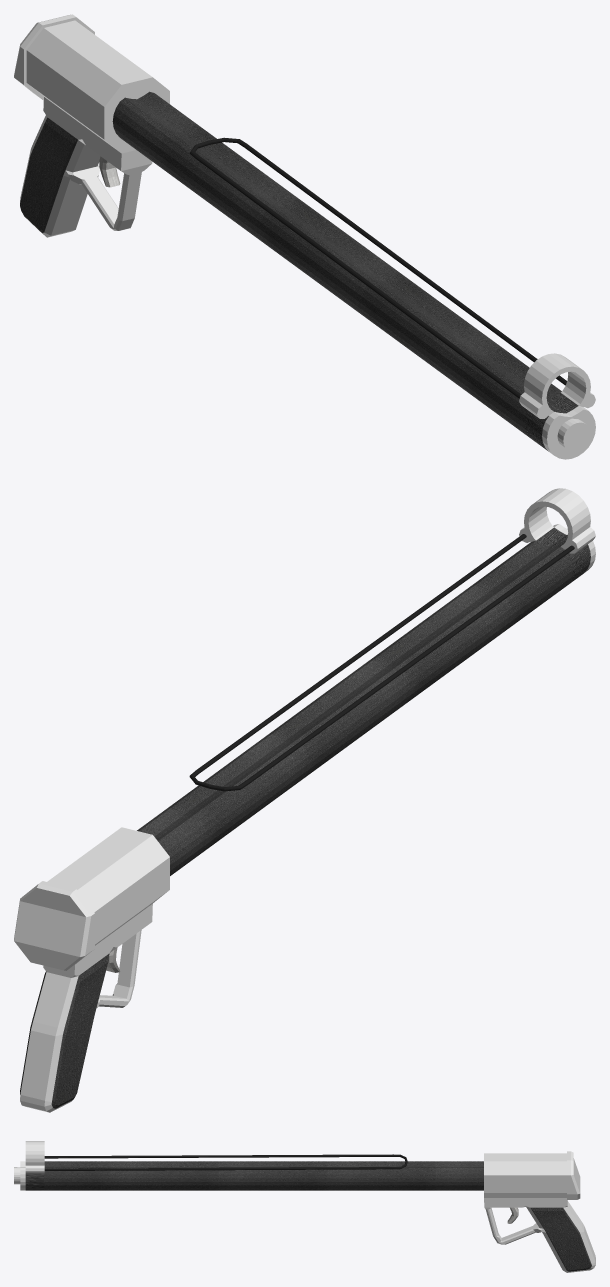
Rendered from speargun.fbx.
3 renders of one model, top to bottom at view 1: azimuth 30°, elevation 25°; view 2: azimuth 150°, elevation 25°; view 3: azimuth 270°, elevation 25°, orthographic. The views are drawn at different scales.
Parts seen in each view (by area): view 1: Cylinder, Cube, Cylinder.003; view 2: Cylinder, Cube, Cylinder.003; view 3: Cylinder, Cube, Cylinder.003.
Part boxes in pixels (x1,y1,x2,y2): Cylinder: (112,91,595,459); Cube: (14,14,169,237); Cylinder.003: (189,137,566,398); Cylinder: (137,488,595,875); Cube: (14,827,169,1112); Cylinder.003: (189,534,574,791); Cylinder: (14,1141,483,1190); Cube: (484,1151,595,1272); Cylinder.003: (44,1154,407,1170).
Size of the model in its own units: 22.3 by 71.45 by 296.
5 materials, 3 textured.
